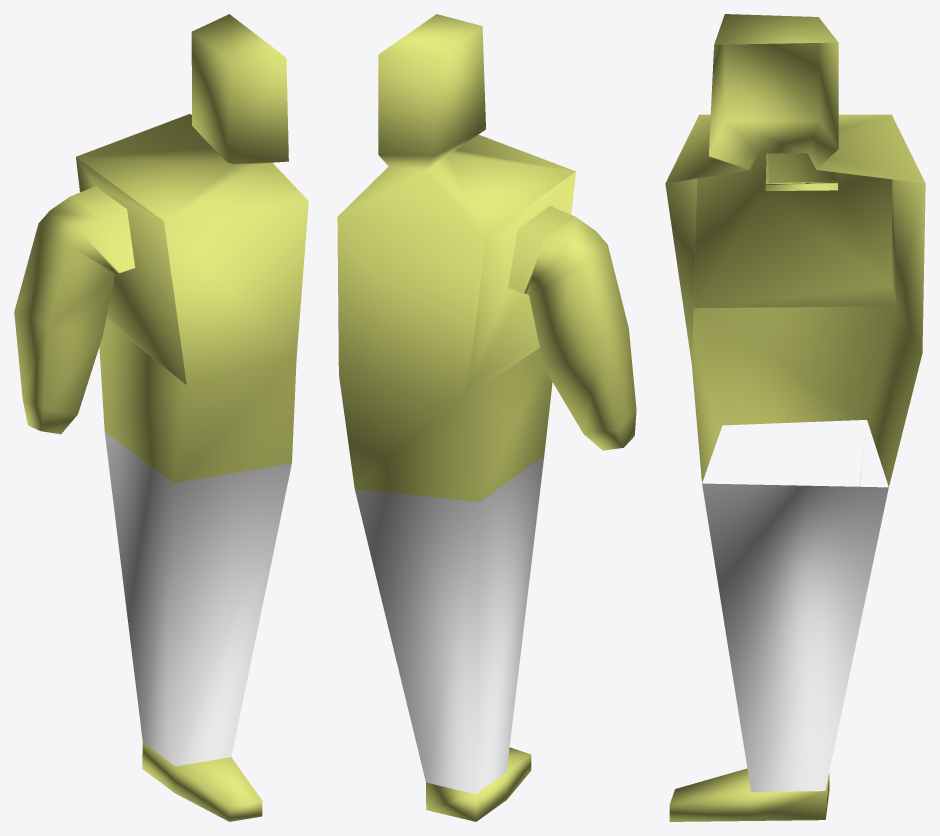
Rendered from chlopek.glb.
3 views of the same model, side by side, from view 1: azimuth 30°, elevation 25°; view 2: azimuth 150°, elevation 25°; view 3: azimuth 270°, elevation 25° (orthographic). The views are drawn at different scales.
Parts seen in each view (by area): view 1: Cube; view 2: Cube; view 3: Cube.
Boxes of the visible parts, x1,y1,x2,y2 form: Cube: [14, 14, 308, 821]; Cube: [337, 14, 636, 821]; Cube: [665, 14, 925, 821].
Size of the model in its own units: 1.38 by 4.4 by 1.29.
